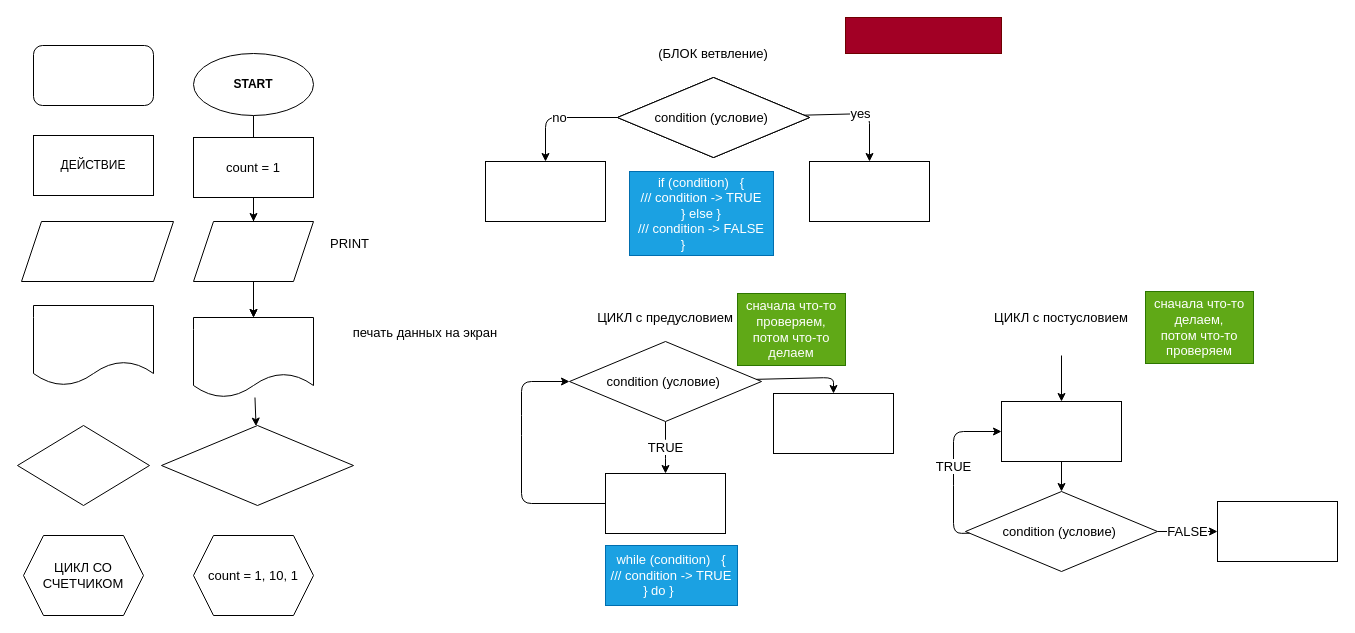
Image size: 1355x633. Some labels were removed from this diagram. The shapes that lost their labels are listed below. From the top down, each one's centre as x and y in pixels, then its label:
At point 923,35: "УСЛОВНЫЙ ОПЕРАТОР".
At point 93,75: "НАЧАЛО И КОНЕЦ АЛГОРИТМА".
At point 97,251: "ВВОД ДАННЫХ (от пользователя)".
At point 253,251: "count".
At point 93,345: "ВЫВОД ДАННЫХ".
At point 253,357: "res".
At point 83,465: "УСЛОВИЕ".
